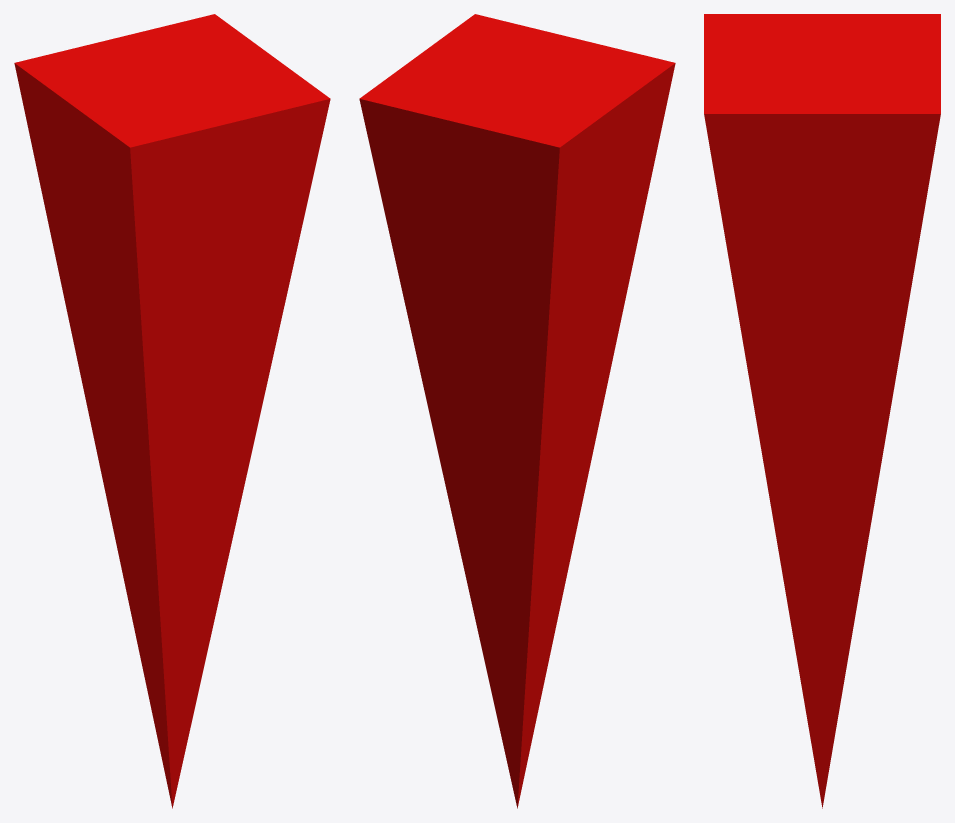
File: indicator.FBX
3 renders of one model, left to right at view 1: azimuth 30°, elevation 25°; view 2: azimuth 150°, elevation 25°; view 3: azimuth 270°, elevation 25°, orthographic. The views are drawn at different scales.
Visible parts, largest first — view 1: indicator; view 2: indicator; view 3: indicator.
Boxes of the visible parts, bbox=[...] form: indicator: bbox=[14, 14, 330, 808]; indicator: bbox=[359, 14, 675, 808]; indicator: bbox=[704, 14, 940, 808].
Bounding box in the file's own units: 5.67 × 19.69 × 5.67.
